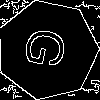G: (22, 25, 77, 73)
